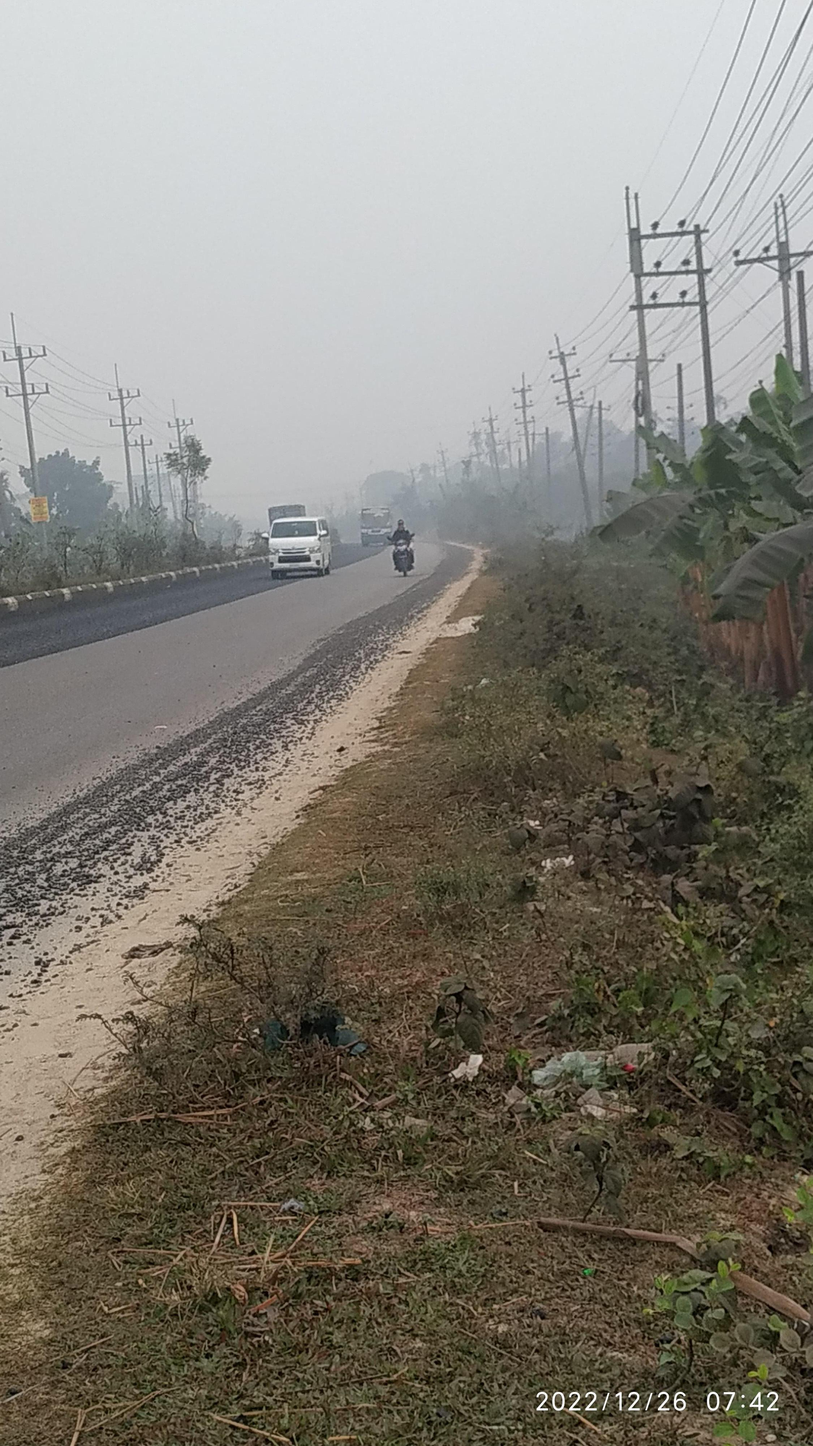Bike: (382, 512, 435, 581)
Bus: (355, 492, 402, 562)
Car: (259, 508, 348, 593)
